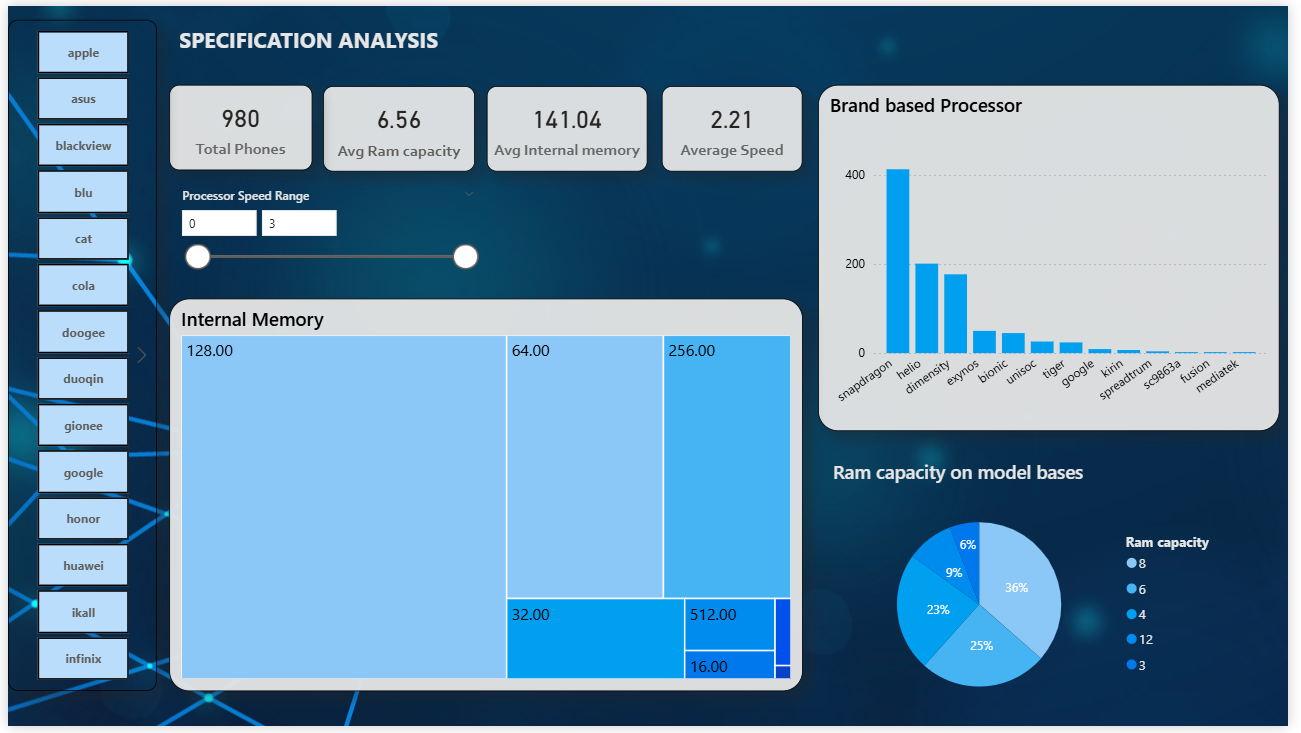

This screenshot's page, from the dashboard's own definition file:
{"tool":"powerbi","page":{"name":"Specification View","canvas":[1280,720],"ordinal":1},"visuals":[{"type":"card","fields":{"Values":["Avg(Real World Smartphone's Dataset.ram_capacity)"]},"box":[314.4,80,152.2,85.6],"z":0},{"type":"card","fields":{"Values":["Avg(Real World Smartphone's Dataset.internal_memory)"]},"box":[478.9,80,161.1,85.6],"z":1000},{"type":"card","fields":{"Values":["Real World Smartphone's Dataset export 2025-07-25 13-08-29.Total Phones"]},"box":[161.1,78.9,143.3,85.6],"z":2000},{"type":"slicer","title":"Brand","fields":{"Values":["Real World Smartphone's Dataset.brand_name"]},"box":[0,13.8,148.8,671.2],"z":3000},{"type":"textbox","box":[166.3,13.5,276,42.3],"z":4000},{"type":"card","fields":{"Values":["Avg(Real World Smartphone's Dataset.processor_speed)"]},"box":[653.3,80,141.1,85.6],"z":5000},{"type":"columnChart","title":"Brand based Processor","fields":{"Category":["Real World Smartphone's Dataset.processor_brand"],"Y":["CountNonNull(Real World Smartphone's Dataset.brand_name)"]},"box":[810.2,79.1,461.4,346.4],"z":9000},{"type":"slicer","fields":{"Values":["Real World Smartphone's Dataset.processor_speed"]},"box":[161.3,176,317.3,97.3],"z":10000},{"type":"donutChart","title":"Ram capacity on model bases","fields":{"Y":["CountNonNull(Real World Smartphone's Dataset.ram_capacity)"],"Category":["Real World Smartphone's Dataset.ram_capacity"]},"box":[819.8,453,402.7,267.3],"z":11000},{"type":"treemap","title":"Internal Memory","fields":{"Group":["Real World Smartphone's Dataset.internal_memory"],"Values":["CountNonNull(Real World Smartphone's Dataset.brand_name)"]},"box":[161.2,292.5,633.8,392.5],"z":12000}]}

Visuals, with their boxes in screenshot pixels (x1, y1, x2, y2), scaled from the page's 1280x720 canvas onto the 1301x733 screenshot:
card - Avg(Real World Smartphone's Dataset.ram_capacity): bbox(320, 81, 474, 169)
card - Avg(Real World Smartphone's Dataset.internal_memory): bbox(487, 81, 650, 169)
card - Real World Smartphone's Dataset export 2025-07-25 13-08-29.Total Phones: bbox(164, 80, 309, 167)
"Brand" slicer: bbox(0, 14, 151, 697)
textbox: bbox(169, 14, 450, 57)
card - Avg(Real World Smartphone's Dataset.processor_speed): bbox(664, 81, 807, 169)
"Brand based Processor" columnChart: bbox(823, 81, 1292, 433)
slicer - Real World Smartphone's Dataset.processor_speed: bbox(164, 179, 486, 278)
"Ram capacity on model bases" donutChart: bbox(833, 461, 1243, 732)
"Internal Memory" treemap: bbox(164, 298, 808, 697)
